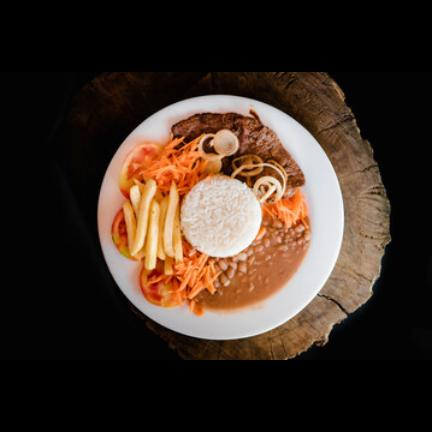beans: (199, 216, 311, 310)
carrot: (149, 240, 221, 315), (133, 134, 208, 195)
meat: (171, 113, 305, 196)
potato: (123, 180, 182, 268)
rice: (181, 174, 262, 257)
tomato: (120, 136, 204, 199)
